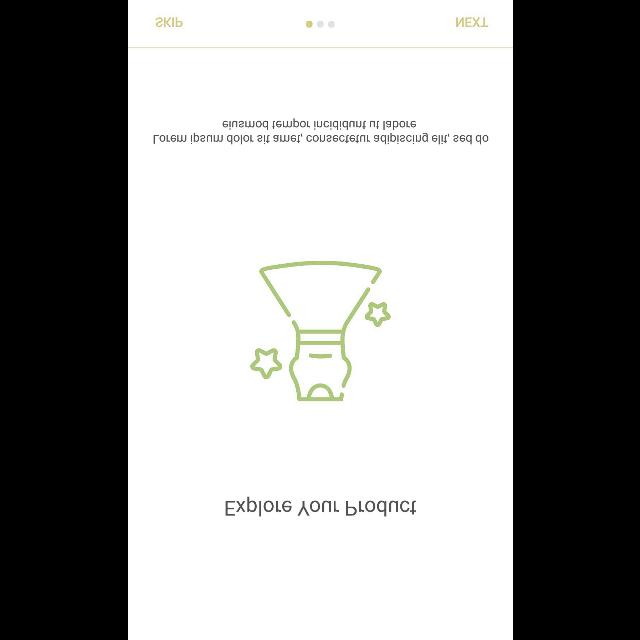image: (250, 260, 390, 402)
pageindicator: (306, 20, 334, 28)
text: (152, 118, 488, 144), (224, 496, 416, 516), (455, 17, 487, 27), (154, 17, 182, 27)
